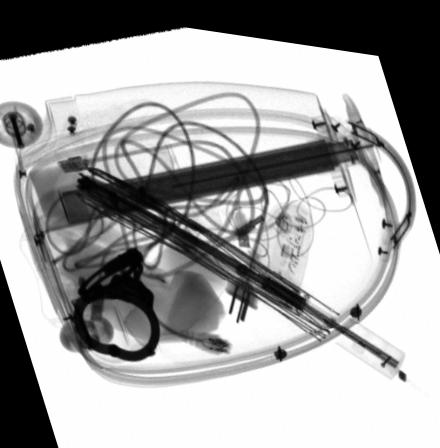HandCuffs: (71, 241, 160, 357)
